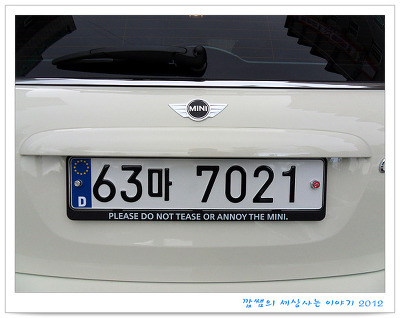plate: (66, 158, 324, 221)
